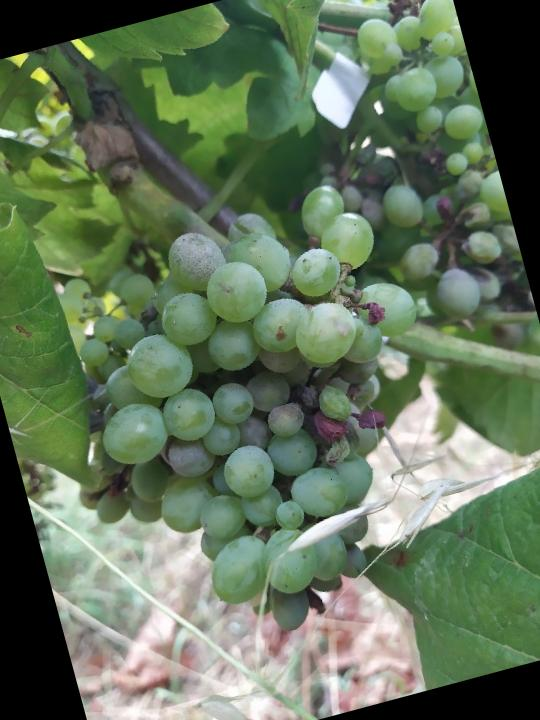grape: (48, 166, 493, 669)
